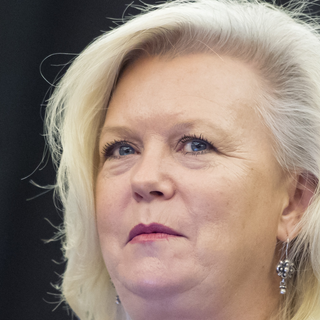eye: (173, 132, 223, 159), (100, 136, 144, 164)
